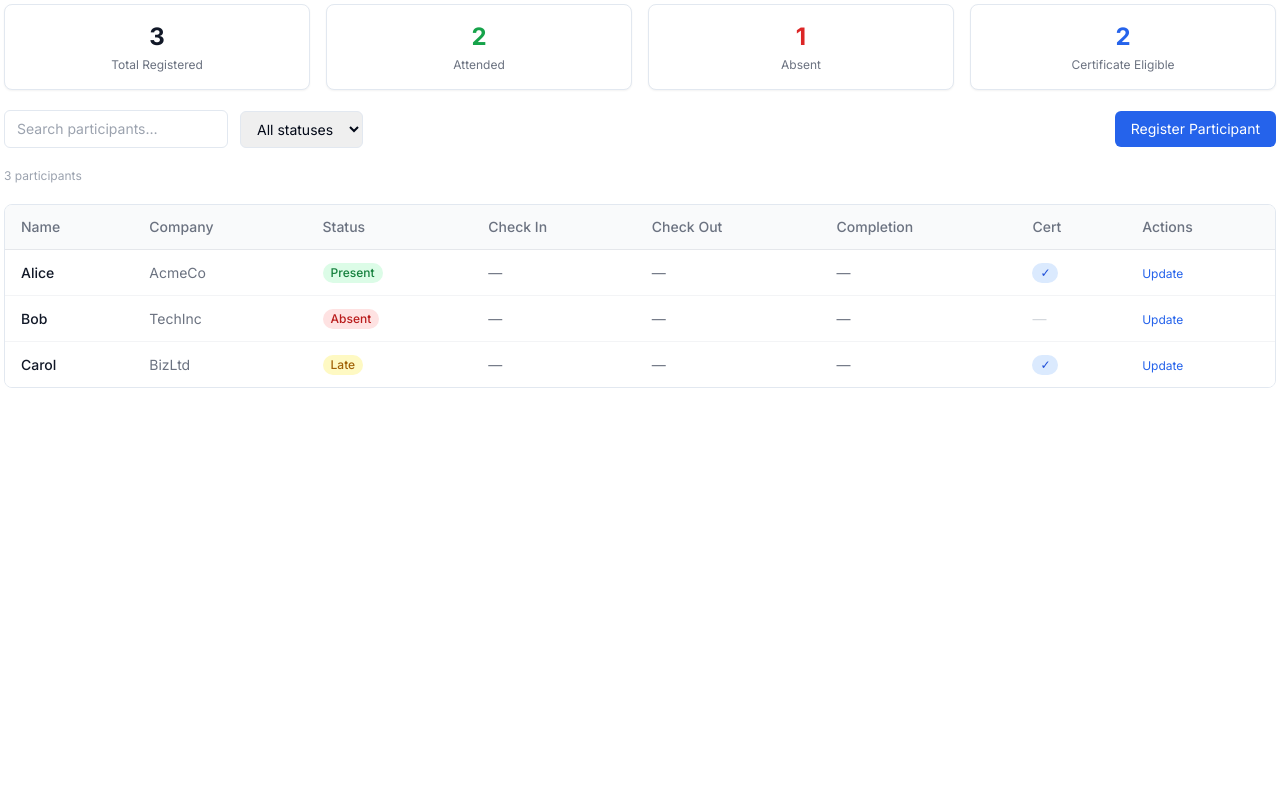
Test: AttendanceCenter › Attendance table › clicking a row opens the attendance drawer
Click the row with test id "attendance-row-a1" at (38, 272), box [5,250,1275,296]
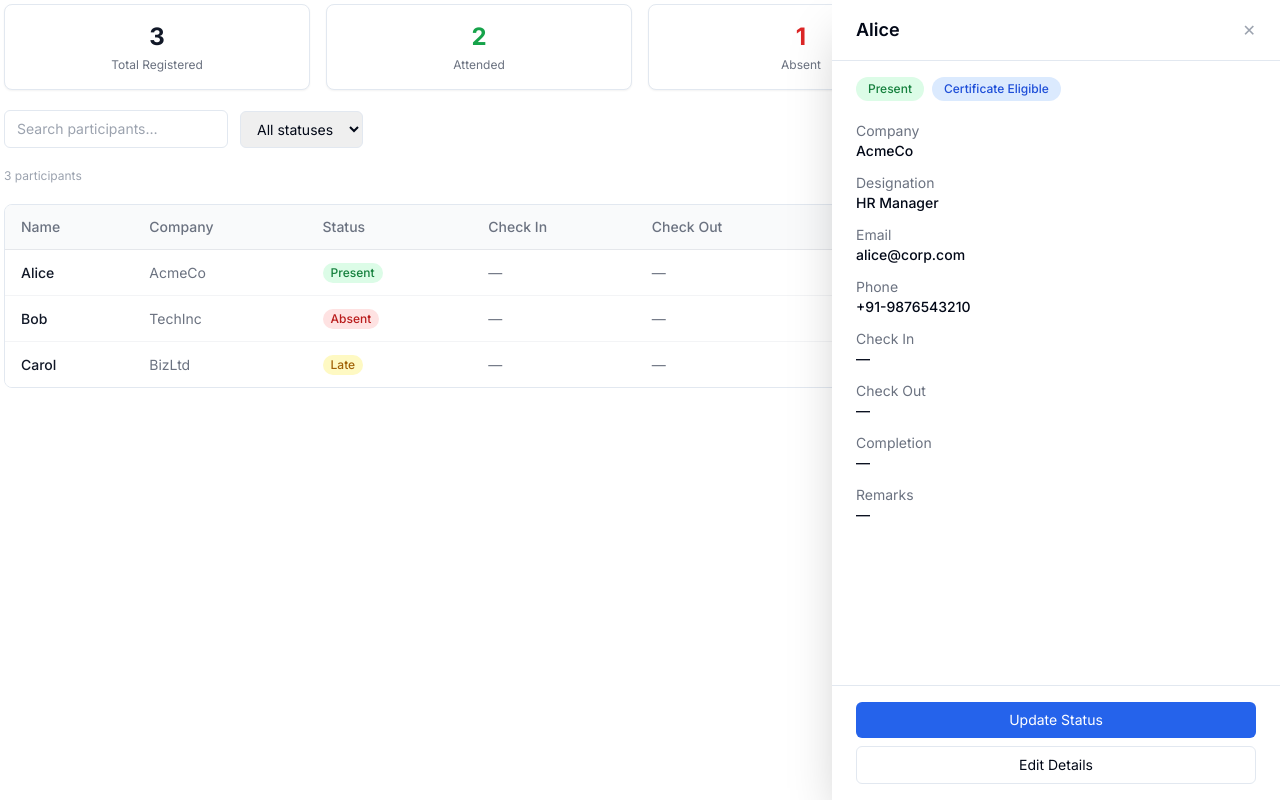
Check: the element with test id "attendance-drawer" is shown, box [832,0,1279,799]
